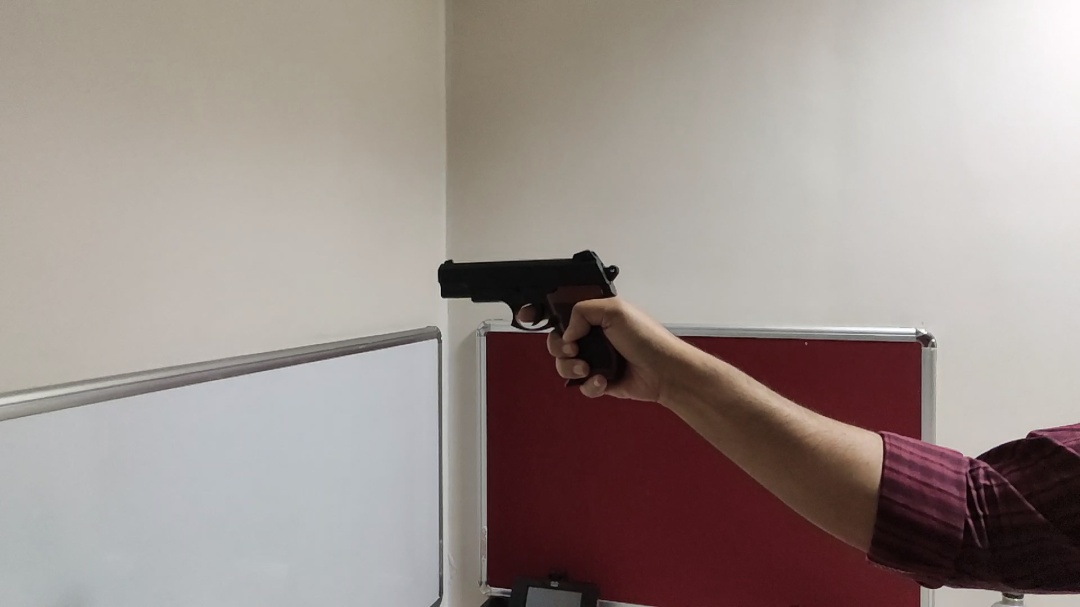gun: (437, 249, 630, 390)
